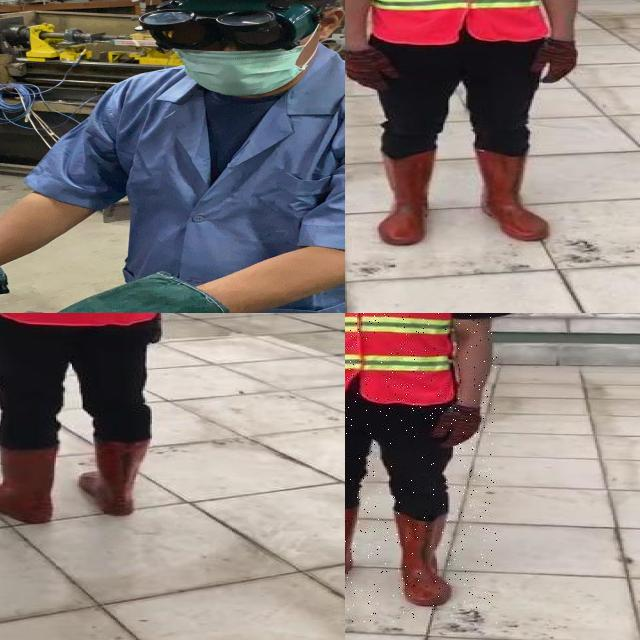No_Ear-Protection: (320, 7, 345, 40)
boots: (466, 143, 548, 243), (374, 149, 436, 245), (391, 510, 453, 606), (78, 436, 150, 516), (0, 444, 57, 525)
face_mask: (173, 45, 304, 96)
glasses: (139, 0, 322, 50)
hand_glove: (345, 49, 402, 92), (530, 37, 578, 83), (146, 313, 168, 344)
person: (345, 0, 587, 253), (0, 313, 229, 547), (345, 313, 497, 623)
vest: (345, 313, 456, 406), (350, 0, 540, 43)
